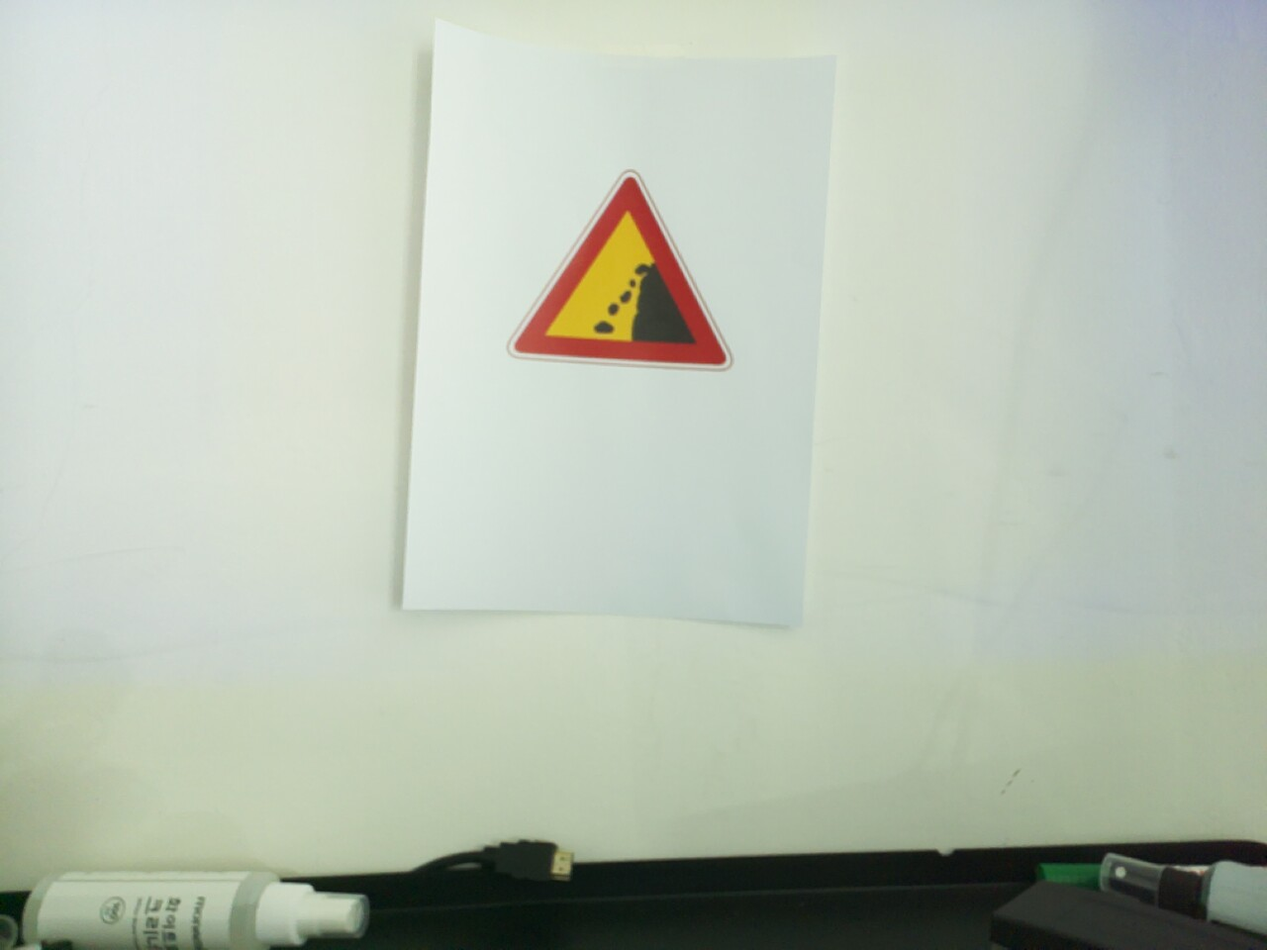falling_rocks: (506, 170, 734, 372)
